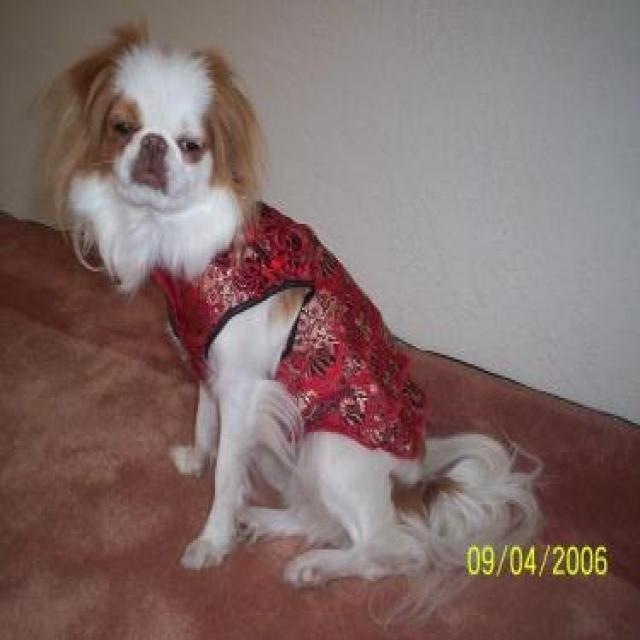husky: (38, 16, 550, 590)
